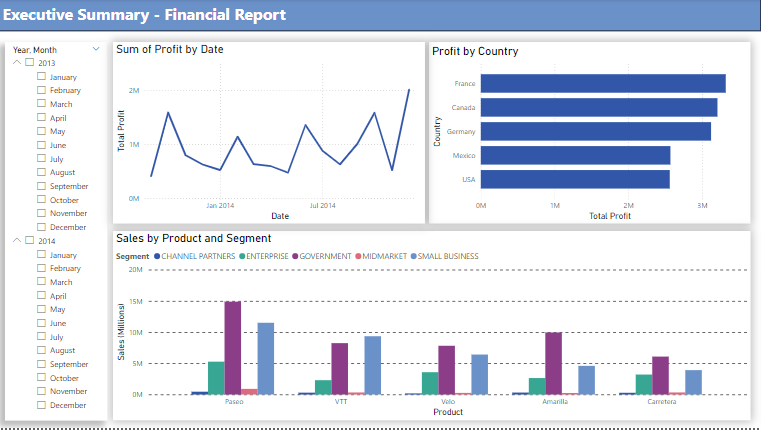

The page's visual inventory and layout, read from the dashboard file:
{"tool":"powerbi","page":{"name":"Page 1","canvas":[1280,720],"ordinal":0},"visuals":[{"type":"barChart","title":"Profit by Country","fields":{"Category":["financials.Country"],"Y":["Sum(financials.Profit)"]},"box":[722.7,72,539.8,305.4],"z":2000},{"type":"clusteredColumnChart","title":"Sales by Product and Segment","fields":{"Y":["Sum(financials. Sales)"],"Category":["financials.Product"],"Series":["financials.Segment"]},"box":[191.6,390,1070.9,318.1],"z":3000},{"type":"slicer","fields":{"Values":["Calendar.Date.Variation.Date Hierarchy.Year","Calendar.Date.Variation.Date Hierarchy.Month"]},"box":[9.7,72,172.2,636.1],"z":4000},{"type":"textbox","box":[0,0,1280,54.5],"z":5000},{"type":"lineChart","fields":{"Category":["financials.Date"],"Y":["Sum(financials.Profit)"]},"box":[191.6,72,524.3,305.4],"z":5001}]}

Visuals, with their boxes in screenshot pixels (x1, y1, x2, y2), scaled from the page's 1280x720 canvas onto the 761x430 screenshot:
"Profit by Country" barChart: bbox=(430, 43, 751, 225)
"Sales by Product and Segment" clusteredColumnChart: bbox=(114, 233, 751, 423)
slicer - Calendar.Date.Variation.Date Hierarchy.Year x Calendar.Date.Variation.Date Hierarchy.Month: bbox=(6, 43, 108, 423)
textbox: bbox=(0, 0, 760, 33)
lineChart - financials.Date x Sum(financials.Profit): bbox=(114, 43, 426, 225)
